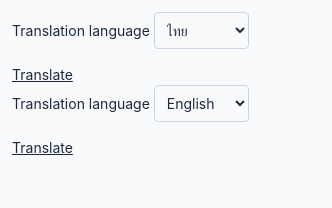
it: translation stays in the requesting view and disappears on remount
Click the 1st button "Translate".
click(42, 75)  # box x1=12 y1=65 x2=73 y2=85
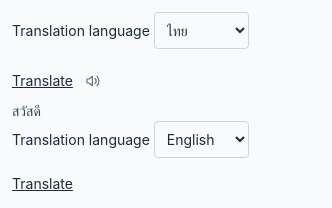
expect the text "สวัสดี" is shown: met, box x1=12 y1=102 x2=41 y2=119
